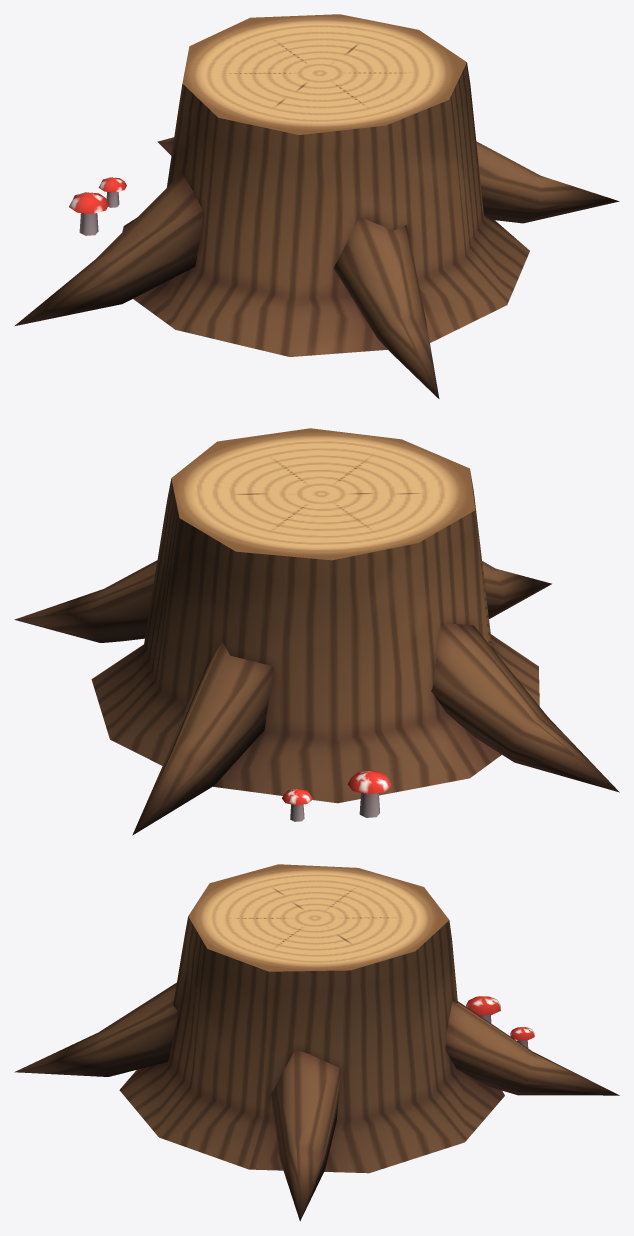
File: stump.obj
3 renders of one model, top to bottom at view 1: azimuth 30°, elevation 25°; view 2: azimuth 150°, elevation 25°; view 3: azimuth 270°, elevation 25°, orthographic. The views are drawn at different scales.
Visible parts, largest first — view 1: Stump; view 2: Stump; view 3: Stump.
Part boxes in pixels (<box>): Stump: <box>15,14,619,398</box>; Stump: <box>14,428,619,835</box>; Stump: <box>14,864,619,1221</box>.
Size of the model in its own units: 1.95 by 0.62 by 1.95.
1 material, 1 textured.
